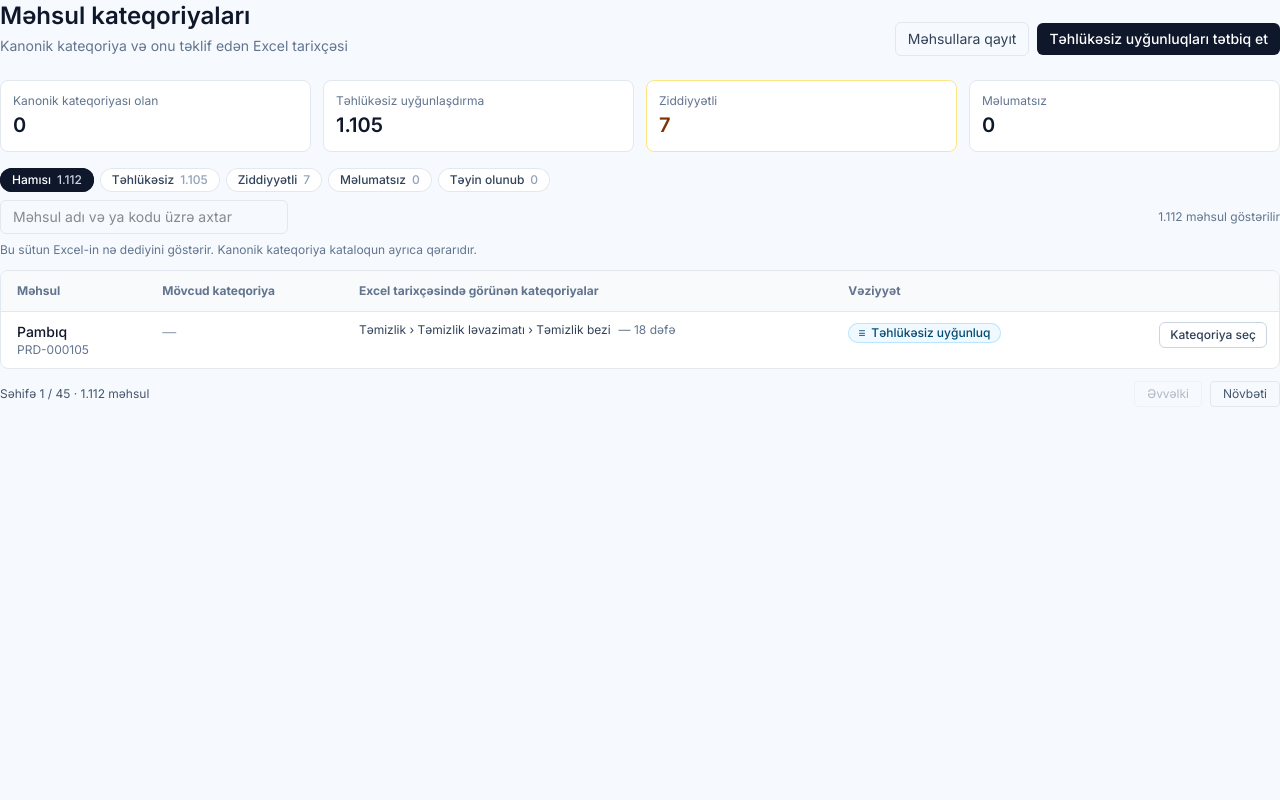
the bulk action › sends nothing but the request itself, and reads the queue again afterwards
This screenshot has width=1280, height=800.
Check: the text "Kanonik kateqoriyası olan" is shown, box [13, 93, 158, 108]
Click the button "Təhlükəsiz uyğunluqları tətbiq et" at [1159, 39], box [1037, 23, 1279, 55]
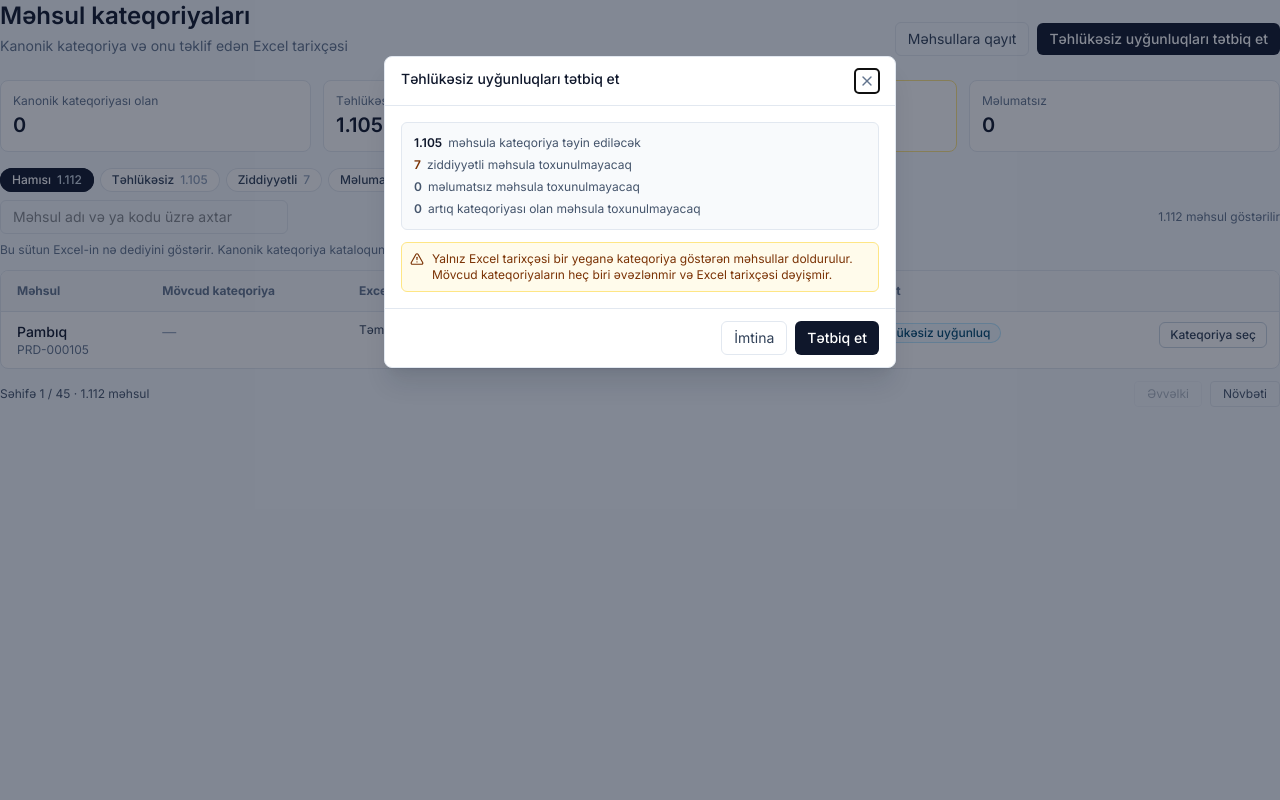
Click the button "Tətbiq et" at [837, 338], box [795, 321, 879, 355]
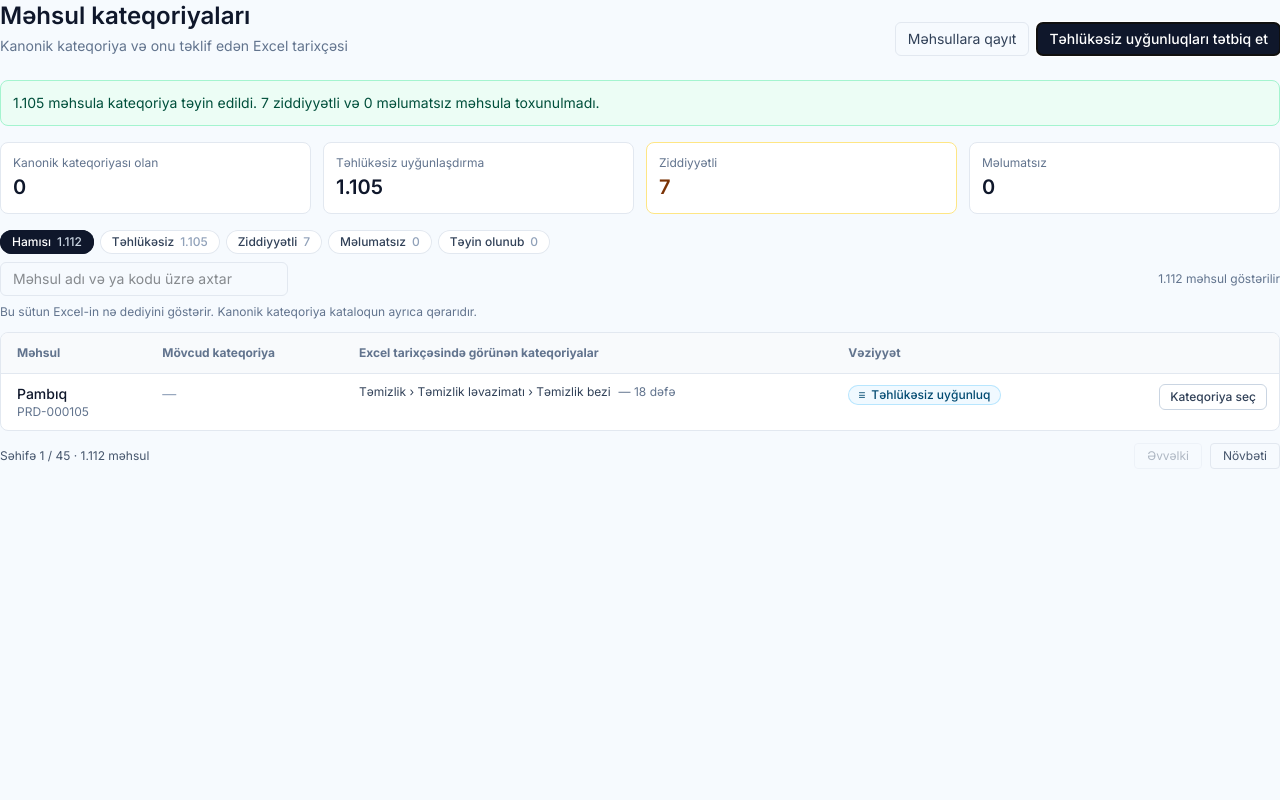
Check: the message shows "1.105 məhsula kateqoriya təyin edildi", box [13, 94, 600, 111]
